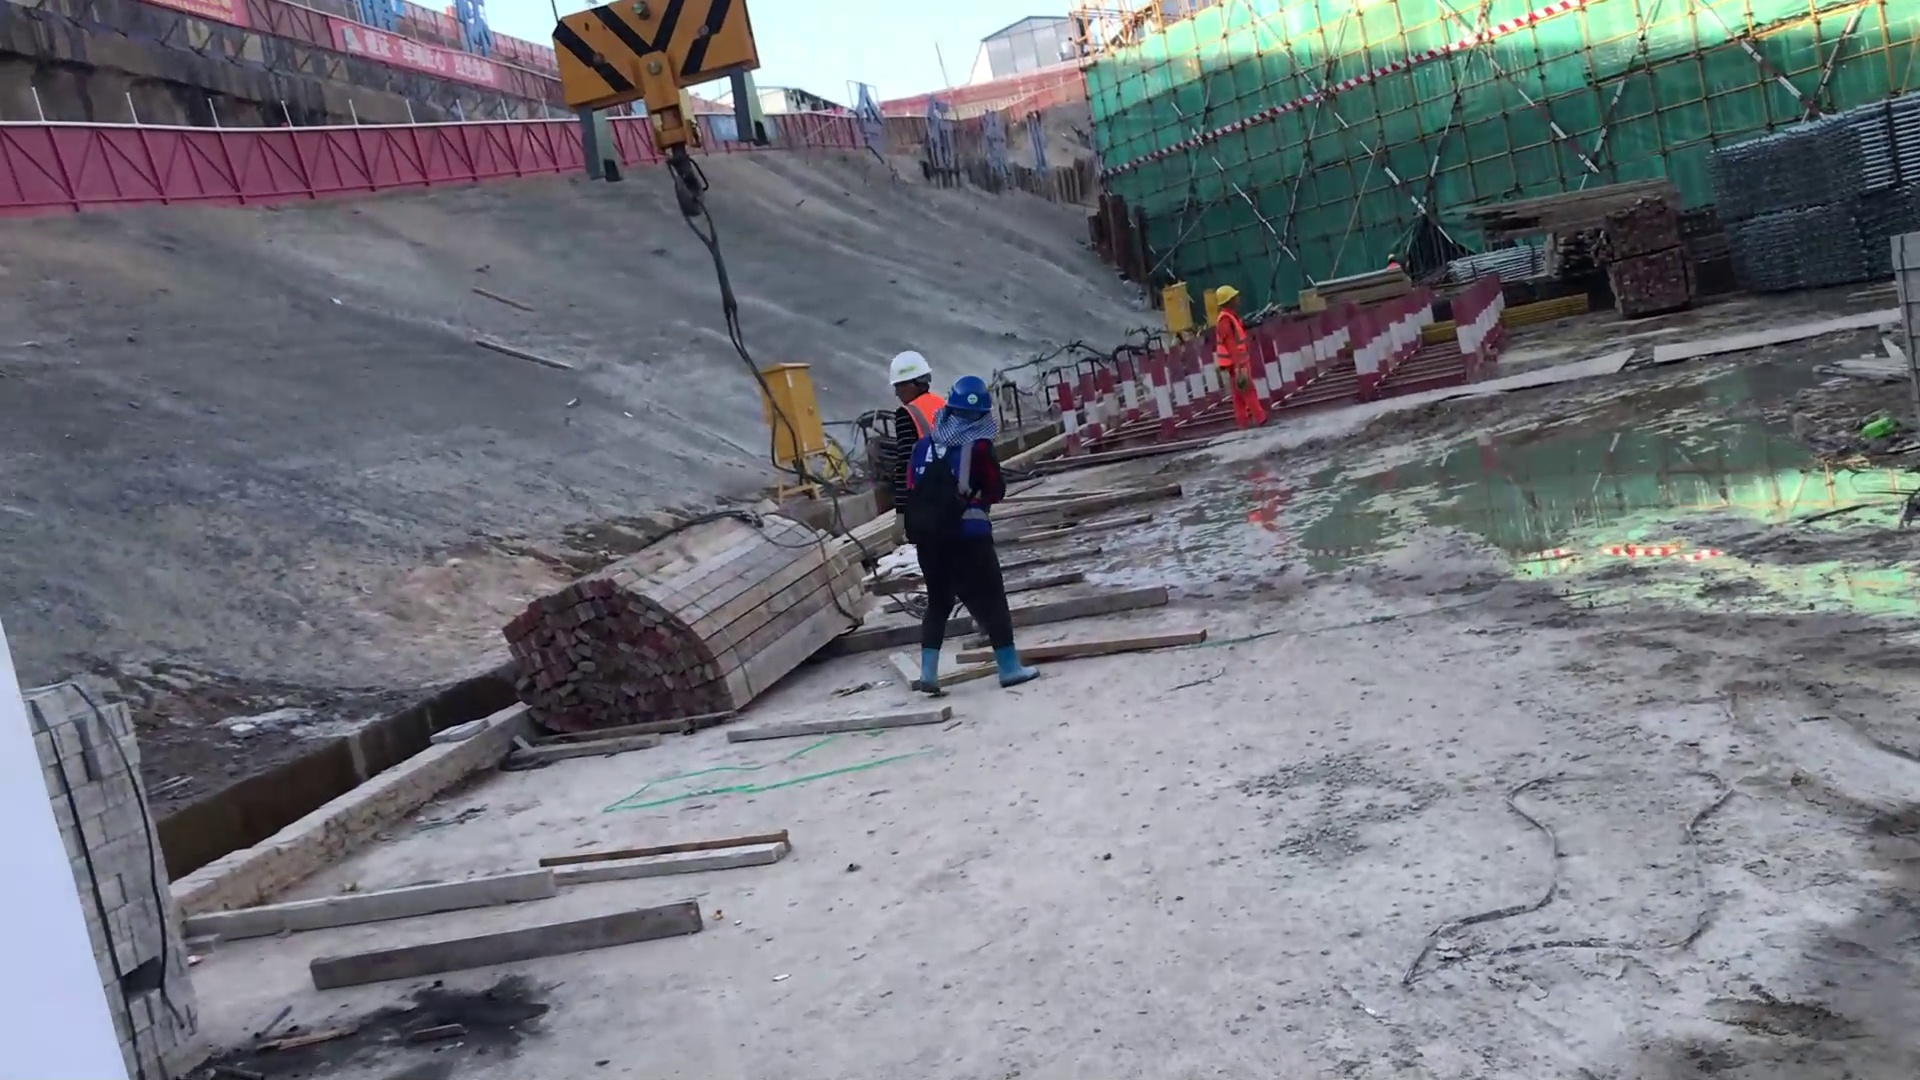brick: (1, 664, 226, 1080)
ebox: (737, 331, 845, 481), (1161, 285, 1193, 334)
fence: (7, 100, 548, 201)
helmet: (881, 340, 936, 405), (938, 373, 1000, 424), (1211, 282, 1243, 313)
hook: (551, 1, 752, 141)
person: (906, 369, 1026, 693), (1209, 287, 1271, 430), (878, 347, 946, 458)
scaffold: (1707, 104, 1920, 210), (1721, 204, 1910, 298)
vest: (1208, 311, 1244, 369)
wood: (506, 504, 869, 763), (1433, 181, 1675, 252)
